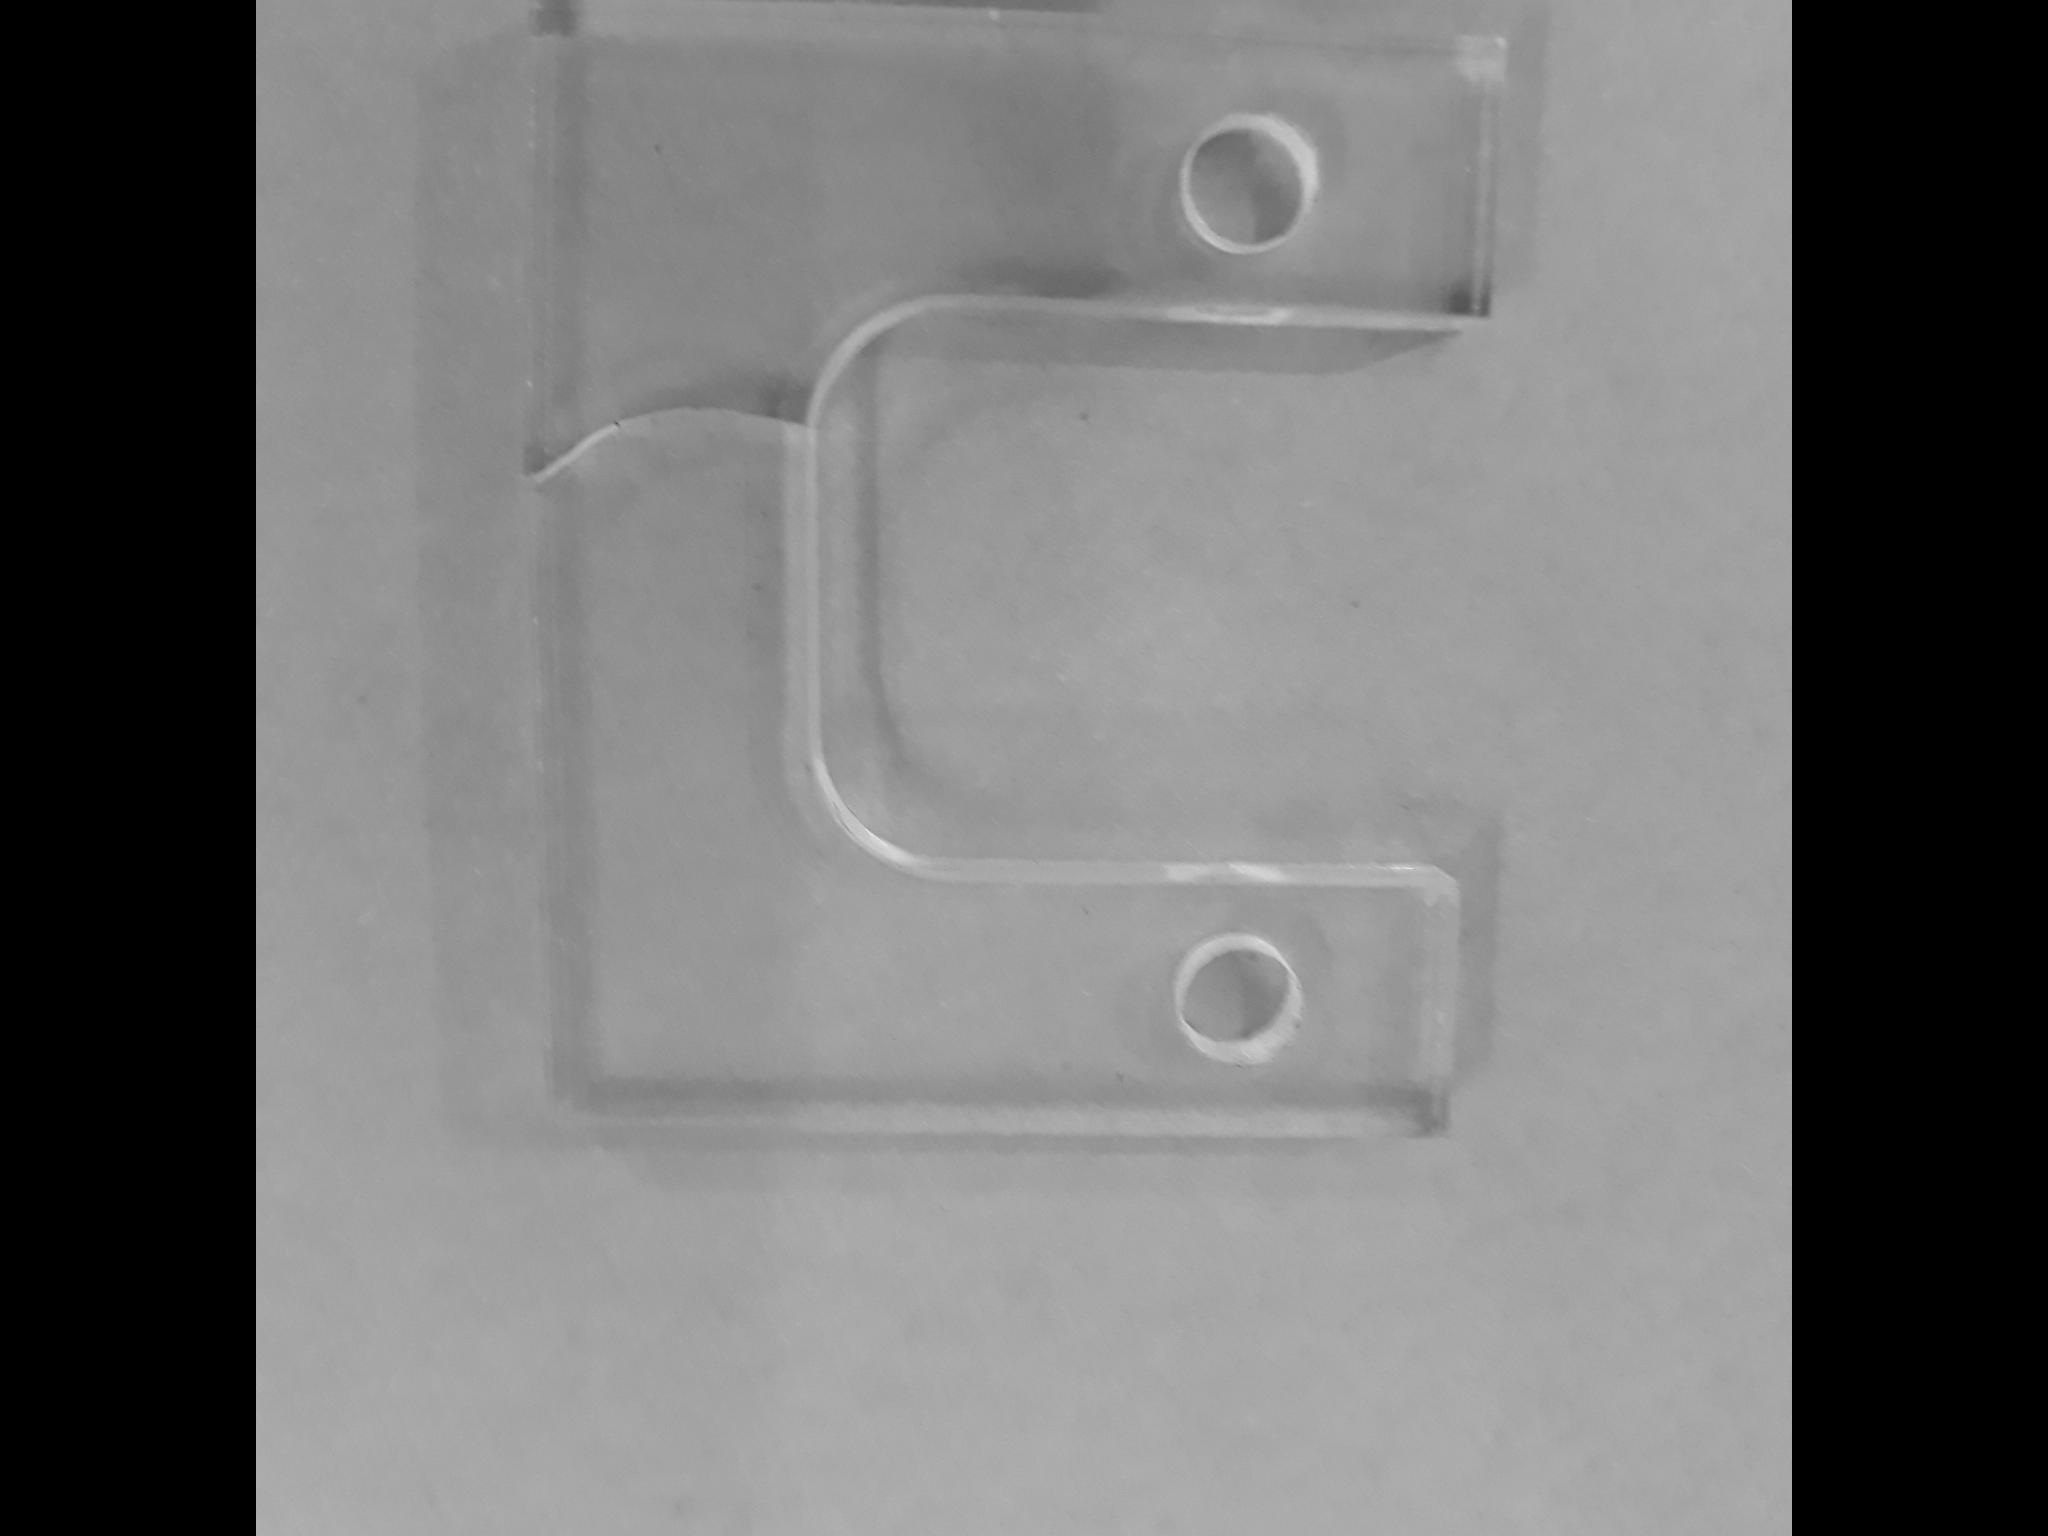Shape_45: (552, 8, 1513, 1113), (822, 273, 1295, 871)
